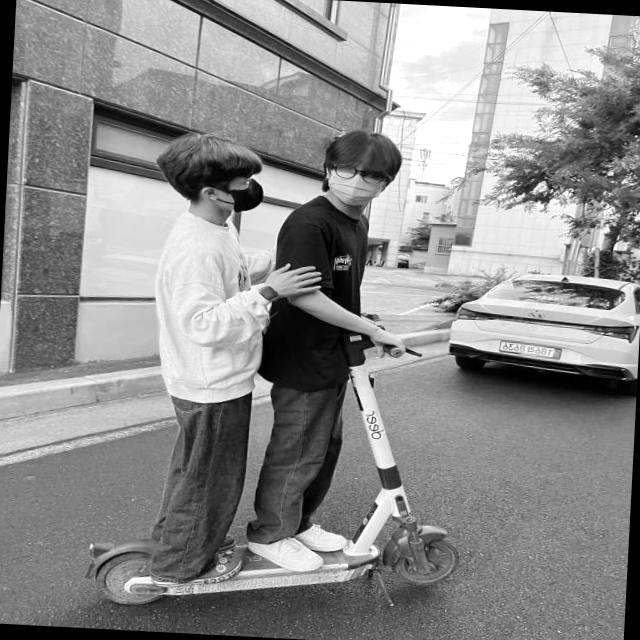bare_head: (157, 121, 262, 219), (314, 127, 406, 210)
human: (257, 117, 388, 572), (129, 128, 251, 584)
kickboard: (74, 520, 474, 608)
